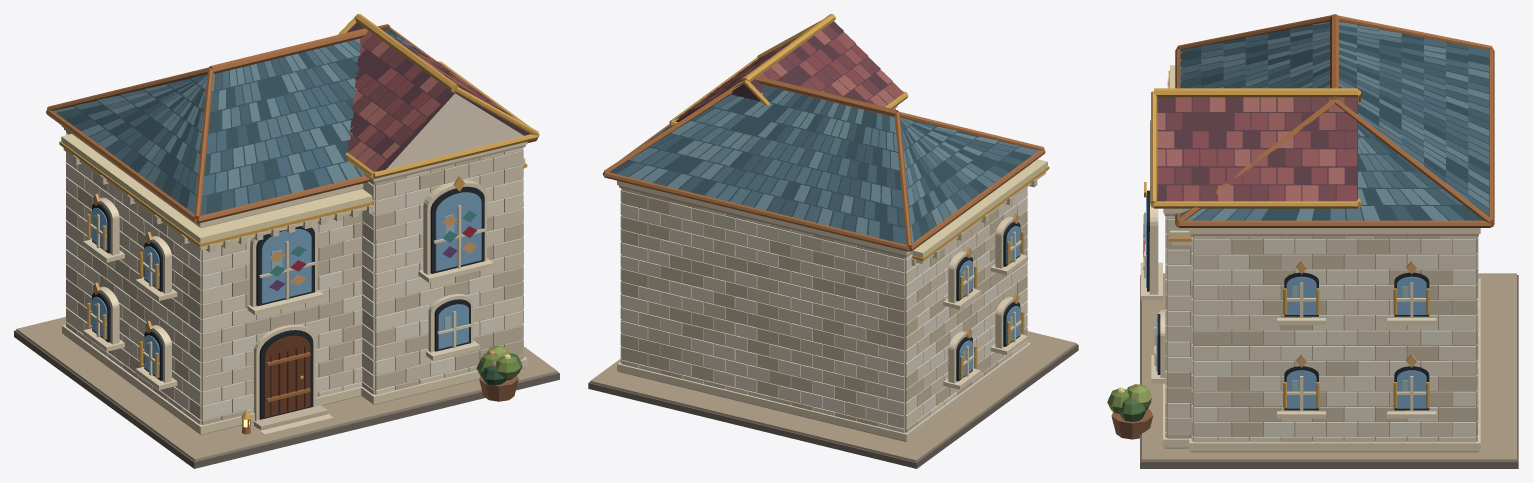
The model's file is noble-nivel-6.glb.
3 views of the same model, side by side, from view 1: azimuth 30°, elevation 25°; view 2: azimuth 150°, elevation 25°; view 3: azimuth 270°, elevation 25° (orthographic). The views are drawn at different scales.
Parts seen in each view (by area): view 1: Casa nobre 06 #e8dcc5, Casa nobre 06 #ded1b9, Casa nobre 06 #e6d7ba, Casa nobre 06 #cec1a8, Casa nobre 06 #eae1ce, Casa nobre 06 #344d58, Casa nobre 06 #b4a38a, Casa nobre 06 #567185, Casa nobre 06 #a76e42, Casa nobre 06 #637f89, Casa nobre 06 #486574, Casa nobre 06 #d5a452 (+17 smaller); view 2: Casa nobre 06 #cec1a8, Casa nobre 06 #e8dcc5, Casa nobre 06 #eae1ce, Casa nobre 06 #ded1b9, Casa nobre 06 #344d58, Casa nobre 06 #b4a38a, Casa nobre 06 #e6d7ba, Casa nobre 06 #637f89, Casa nobre 06 #3f5a65, Casa nobre 06 #a76e42, Casa nobre 06 #55717e, Casa nobre 06 #486574 (+11 smaller); view 3: Casa nobre 06 #e8dcc5, Casa nobre 06 #eae1ce, Casa nobre 06 #b4a38a, Casa nobre 06 #344d58, Casa nobre 06 #cec1a8, Casa nobre 06 #ded1b9, Casa nobre 06 #e6d7ba, Casa nobre 06 #a76e42, Casa nobre 06 #637f89, Casa nobre 06 #55717e, Casa nobre 06 #593b44, Casa nobre 06 #b3a390 (+12 smaller).
Boxes of the visible parts, x1=… form: Casa nobre 06 #e8dcc5: x1=66, y1=93, x2=524, y2=413; Casa nobre 06 #ded1b9: x1=66, y1=131, x2=523, y2=411; Casa nobre 06 #e6d7ba: x1=62, y1=126, x2=527, y2=434; Casa nobre 06 #cec1a8: x1=66, y1=158, x2=523, y2=425; Casa nobre 06 #eae1ce: x1=66, y1=134, x2=523, y2=424; Casa nobre 06 #344d58: x1=57, y1=29, x2=420, y2=214; Casa nobre 06 #b4a38a: x1=16, y1=128, x2=557, y2=461; Casa nobre 06 #567185: x1=92, y1=192, x2=481, y2=377; Casa nobre 06 #a76e42: x1=46, y1=24, x2=537, y2=434; Casa nobre 06 #637f89: x1=53, y1=37, x2=424, y2=193; Casa nobre 06 #486574: x1=114, y1=29, x2=406, y2=203; Casa nobre 06 #d5a452: x1=59, y1=14, x2=539, y2=419; Casa nobre 06 #cec1a8: x1=620, y1=190, x2=1027, y2=432; Casa nobre 06 #e8dcc5: x1=620, y1=188, x2=1027, y2=427; Casa nobre 06 #eae1ce: x1=620, y1=187, x2=1027, y2=432; Casa nobre 06 #ded1b9: x1=620, y1=178, x2=1037, y2=428; Casa nobre 06 #344d58: x1=610, y1=86, x2=1031, y2=241; Casa nobre 06 #b4a38a: x1=590, y1=108, x2=1076, y2=462; Casa nobre 06 #e6d7ba: x1=617, y1=105, x2=1031, y2=441; Casa nobre 06 #637f89: x1=629, y1=90, x2=998, y2=243; Casa nobre 06 #3f5a65: x1=644, y1=86, x2=1023, y2=240; Casa nobre 06 #a76e42: x1=603, y1=74, x2=1045, y2=251; Casa nobre 06 #55717e: x1=629, y1=92, x2=1038, y2=237; Casa nobre 06 #486574: x1=616, y1=85, x2=1016, y2=244; Casa nobre 06 #e8dcc5: x1=1165, y1=236, x2=1478, y2=442; Casa nobre 06 #eae1ce: x1=1165, y1=216, x2=1478, y2=442; Casa nobre 06 #b4a38a: x1=1142, y1=213, x2=1516, y2=461; Casa nobre 06 #344d58: x1=1180, y1=23, x2=1489, y2=220; Casa nobre 06 #cec1a8: x1=1165, y1=234, x2=1478, y2=438; Casa nobre 06 #ded1b9: x1=1165, y1=78, x2=1478, y2=442; Casa nobre 06 #e6d7ba: x1=1140, y1=186, x2=1480, y2=451; Casa nobre 06 #a76e42: x1=1175, y1=14, x2=1494, y2=227; Casa nobre 06 #637f89: x1=1186, y1=21, x2=1489, y2=220; Casa nobre 06 #55717e: x1=1180, y1=29, x2=1489, y2=220; Casa nobre 06 #593b44: x1=1157, y1=97, x2=1357, y2=201; Casa nobre 06 #b3a390: x1=1167, y1=216, x2=1476, y2=441.
Size of the model in its own units: 8.94 by 7.34 by 8.29.
